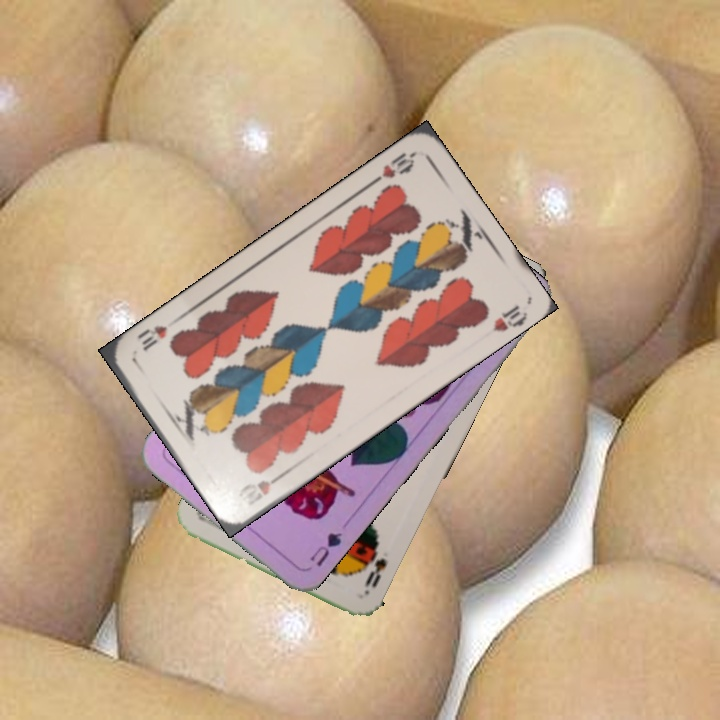GU: (306, 528, 345, 569)
H10: (366, 148, 418, 188), (240, 467, 288, 509)
SO: (360, 554, 390, 591)
